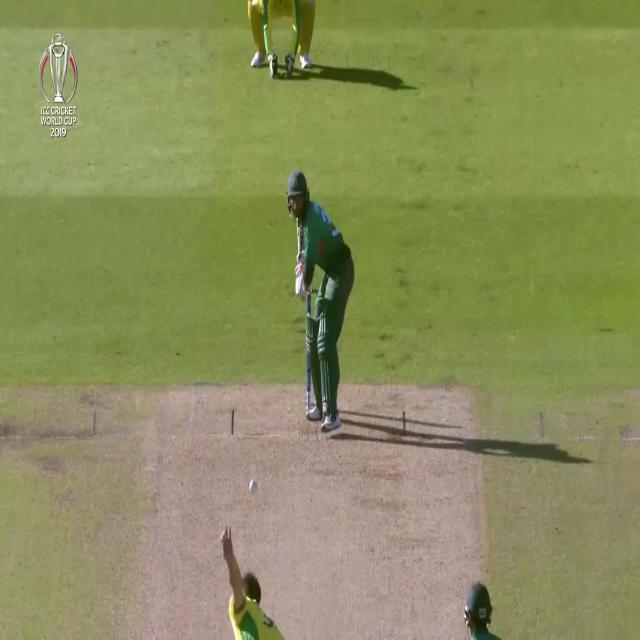ball: (245, 475, 262, 501)
